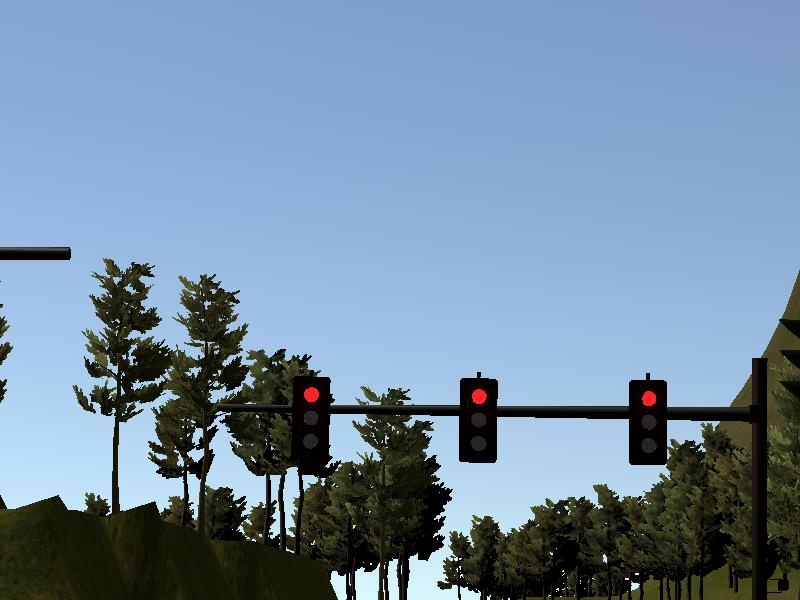RED: (289, 374, 329, 460), (458, 378, 498, 464), (627, 379, 667, 465)
